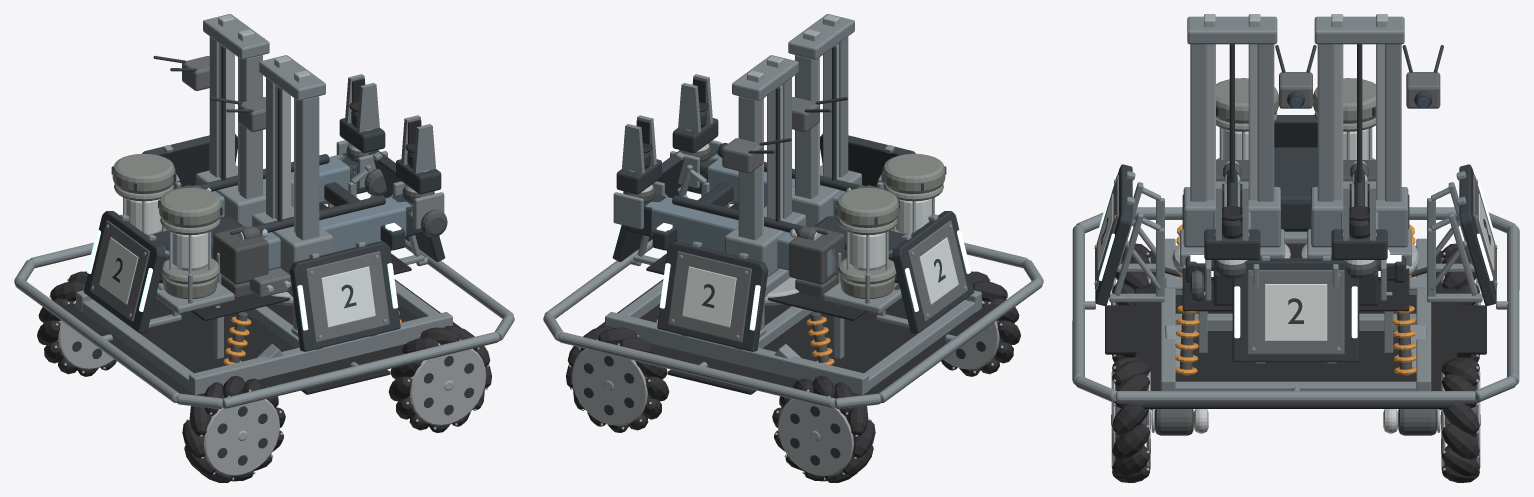
The model's file is robot-201-spec2026v4.glb.
3 renders of one model, left to right at view 1: azimuth 30°, elevation 25°; view 2: azimuth 150°, elevation 25°; view 3: azimuth 270°, elevation 25°, orthographic. The views are drawn at different scales.
Parts seen in each view (by area): view 1: Chassis_RobotMatteAluminum, Chassis_CarbonPlate, ArmSlew_RobotMatteAluminum, Aux_ArmSlew_RobotMatteAluminum, Wheel_0_MachinedAlloy, Wheel_2_MachinedAlloy, CarriedUnit_0_ProtectiveMetal, ArmorModuleBody.003, ArmorHitFace.003, BoomOuter, Wheel_0_PolyurethaneRoller, Wheel_2_PolyurethaneRoller (+34 smaller); view 2: Chassis_RobotMatteAluminum, Chassis_CarbonPlate, Aux_ArmSlew_RobotMatteAluminum, ArmSlew_RobotMatteAluminum, Wheel_1_MachinedAlloy, Wheel_3_MachinedAlloy, CarriedUnit_1_ProtectiveMetal, ArmorModuleBody.001, ArmorHitFace.001, Aux_BoomOuter, Wheel_1_PolyurethaneRoller, Wheel_3_PolyurethaneRoller (+33 smaller); view 3: Chassis_RobotMatteAluminum, Chassis_CarbonPlate, ArmSlew_RobotMatteAluminum, Aux_ArmSlew_RobotMatteAluminum, ArmorHitFace, ArmorModuleBody, Chassis_RobotMatteGraphite, Wheel_2_PolyurethaneRoller, Wheel_3_PolyurethaneRoller, ArmorSticker, ArmMastStage_MachinedAlloy, Aux_ArmMastStage_MachinedAlloy (+33 smaller).
Part boxes in pixels (box(x1,y1,x2,y2)): Chassis_RobotMatteAluminum: box(14, 201, 514, 408); Chassis_CarbonPlate: box(58, 203, 460, 396); ArmSlew_RobotMatteAluminum: box(259, 55, 325, 296); Aux_ArmSlew_RobotMatteAluminum: box(203, 14, 269, 198); Wheel_0_MachinedAlloy: box(186, 385, 282, 480); Wheel_2_MachinedAlloy: box(394, 335, 488, 429); CarriedUnit_0_ProtectiveMetal: box(159, 187, 221, 298); ArmorModuleBody.003: box(289, 241, 400, 351); ArmorHitFace.003: box(306, 251, 389, 342); BoomOuter: box(263, 197, 412, 270); Wheel_0_PolyurethaneRoller: box(182, 375, 285, 482); Wheel_2_PolyurethaneRoller: box(388, 326, 491, 432); Chassis_RobotMatteAluminum: box(543, 201, 1043, 408); Chassis_CarbonPlate: box(597, 203, 999, 396); Aux_ArmSlew_RobotMatteAluminum: box(732, 55, 798, 296); ArmSlew_RobotMatteAluminum: box(788, 14, 854, 198); Wheel_1_MachinedAlloy: box(775, 385, 871, 480); Wheel_3_MachinedAlloy: box(569, 335, 663, 429); CarriedUnit_1_ProtectiveMetal: box(836, 187, 898, 298); ArmorModuleBody.001: box(657, 241, 768, 351); ArmorHitFace.001: box(668, 251, 751, 342); Aux_BoomOuter: box(646, 197, 836, 276); Wheel_1_PolyurethaneRoller: box(772, 375, 875, 482); Wheel_3_PolyurethaneRoller: box(566, 326, 669, 432); Chassis_RobotMatteAluminum: box(1072, 207, 1519, 403); Chassis_CarbonPlate: box(1105, 194, 1486, 408); ArmSlew_RobotMatteAluminum: box(1180, 16, 1284, 265); Aux_ArmSlew_RobotMatteAluminum: box(1307, 16, 1411, 265); ArmorHitFace: box(1247, 270, 1344, 354); ArmorModuleBody: box(1232, 259, 1359, 362); Chassis_RobotMatteGraphite: box(1150, 147, 1441, 409); Wheel_2_PolyurethaneRoller: box(1112, 357, 1150, 482); Wheel_3_PolyurethaneRoller: box(1441, 357, 1479, 482); ArmorSticker: box(1264, 284, 1327, 340); ArmMastStage_MachinedAlloy: box(1204, 14, 1260, 200); Aux_ArmMastStage_MachinedAlloy: box(1331, 14, 1387, 200).
Bounding box in the file's own units: 0.5969 × 0.595 × 0.5969.
